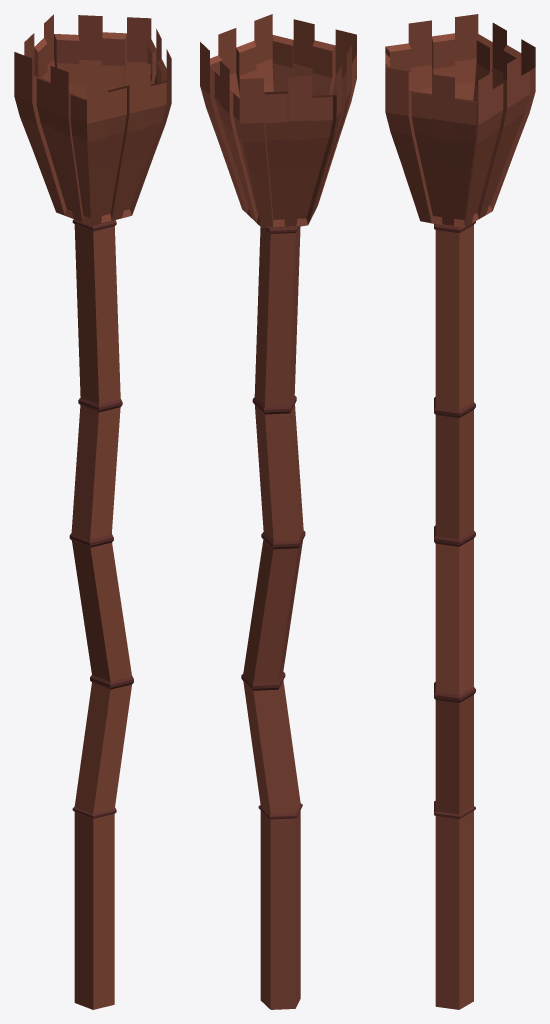
File: Torch_01.fbx
3 renders of one model, left to right at view 1: azimuth 30°, elevation 25°; view 2: azimuth 150°, elevation 25°; view 3: azimuth 270°, elevation 25°, orthographic.
Parts seen in each view (by area): view 1: Circle; view 2: Circle; view 3: Circle.
Boxes of the visible parts, <box> form: Circle: <box>14,14,171,1009</box>; Circle: <box>200,14,356,1009</box>; Circle: <box>385,14,535,1009</box>.
Bounding box in the file's own units: 1.1 × 7.35 × 1.05.
